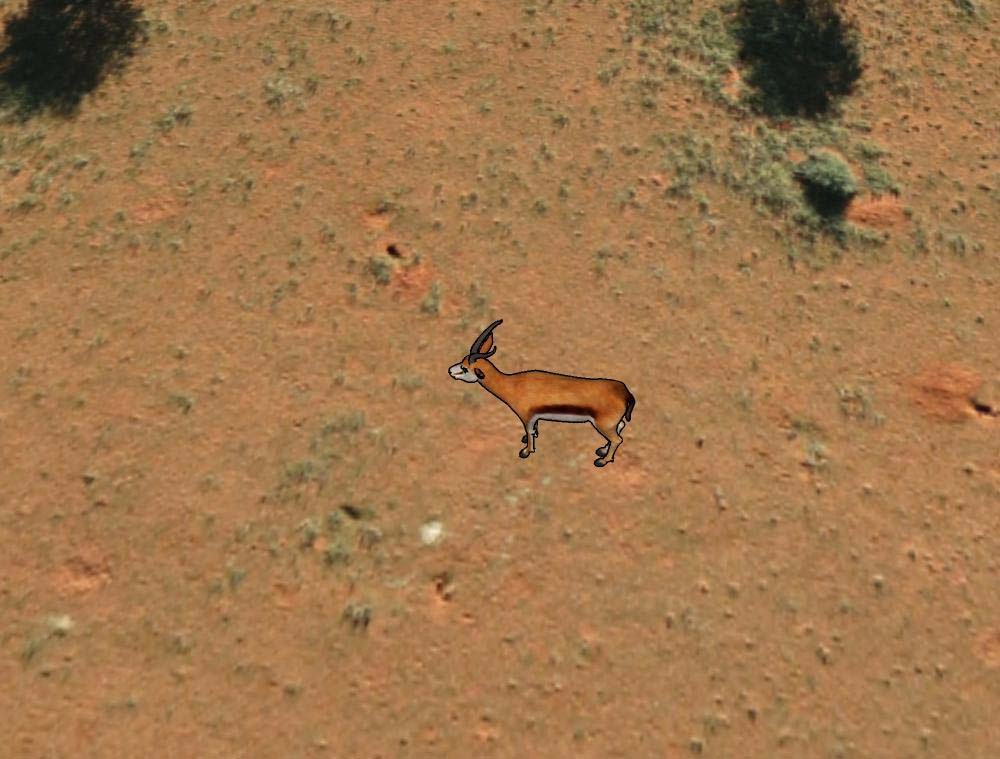springbok: (446, 316, 639, 474)
